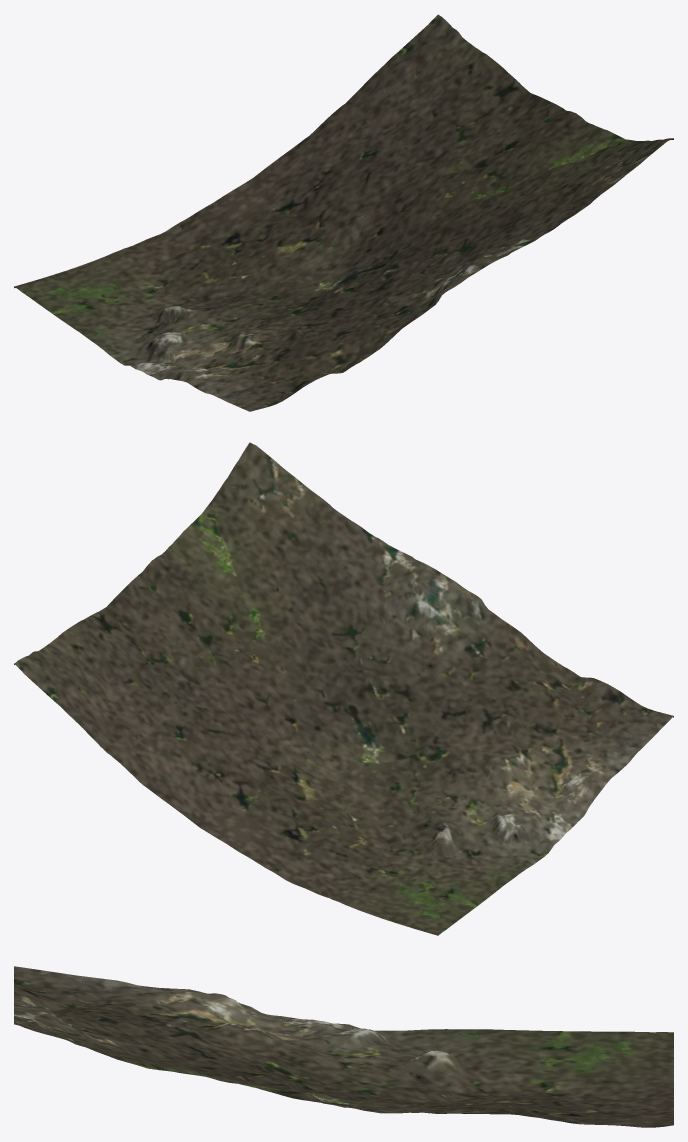
The picture shows the model from 3 angles, top to bottom: view 1: azimuth 30°, elevation 25°; view 2: azimuth 150°, elevation 25°; view 3: azimuth 270°, elevation 25°; orthographic projection. The views are drawn at different scales.
Size of the model in its own units: 250 by 123 by 241.
Materials: 1 (1 with a texture image).
